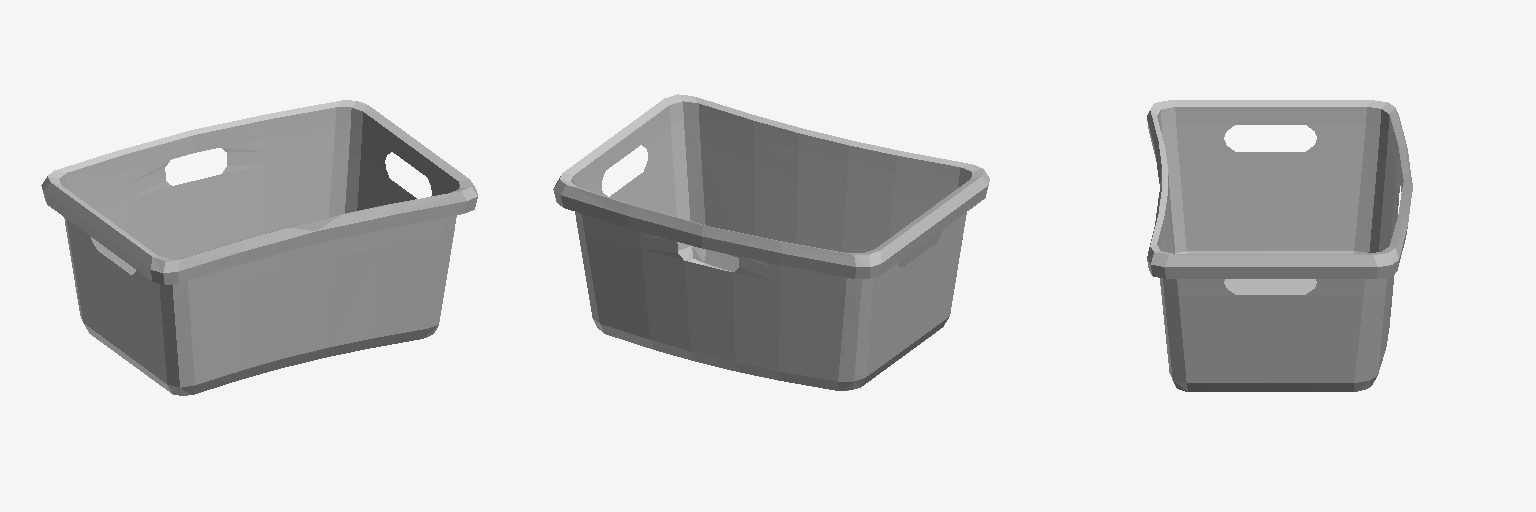
File: basket.obj
3 renders of one model, left to right at view 1: azimuth 30°, elevation 25°; view 2: azimuth 150°, elevation 25°; view 3: azimuth 270°, elevation 25°, orthographic.
Visible parts, largest first — view 1: pCube48; view 2: pCube48; view 3: pCube48.
Boxes of the visible parts, x1,y1,x2,y2 form: pCube48: [41, 100, 477, 395]; pCube48: [553, 94, 989, 390]; pCube48: [1147, 100, 1412, 391].
Size of the model in its own units: 65.37 by 29.99 by 46.23.